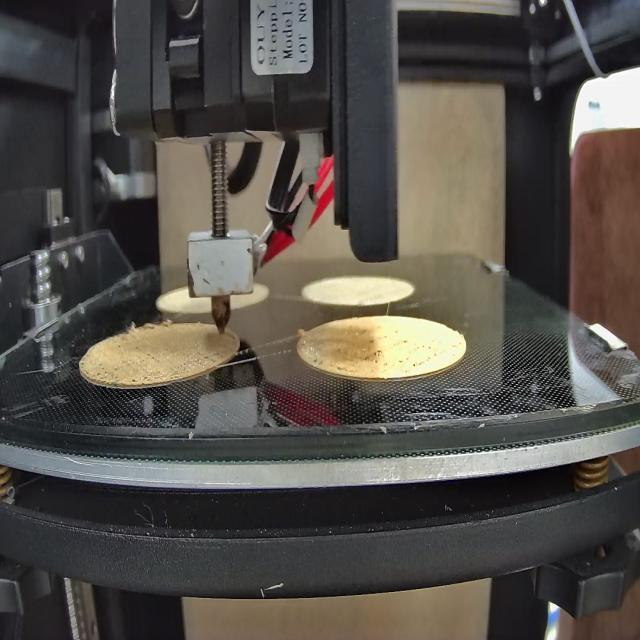under_extrusion: (83, 340, 212, 384), (305, 347, 450, 375), (358, 322, 415, 344)
